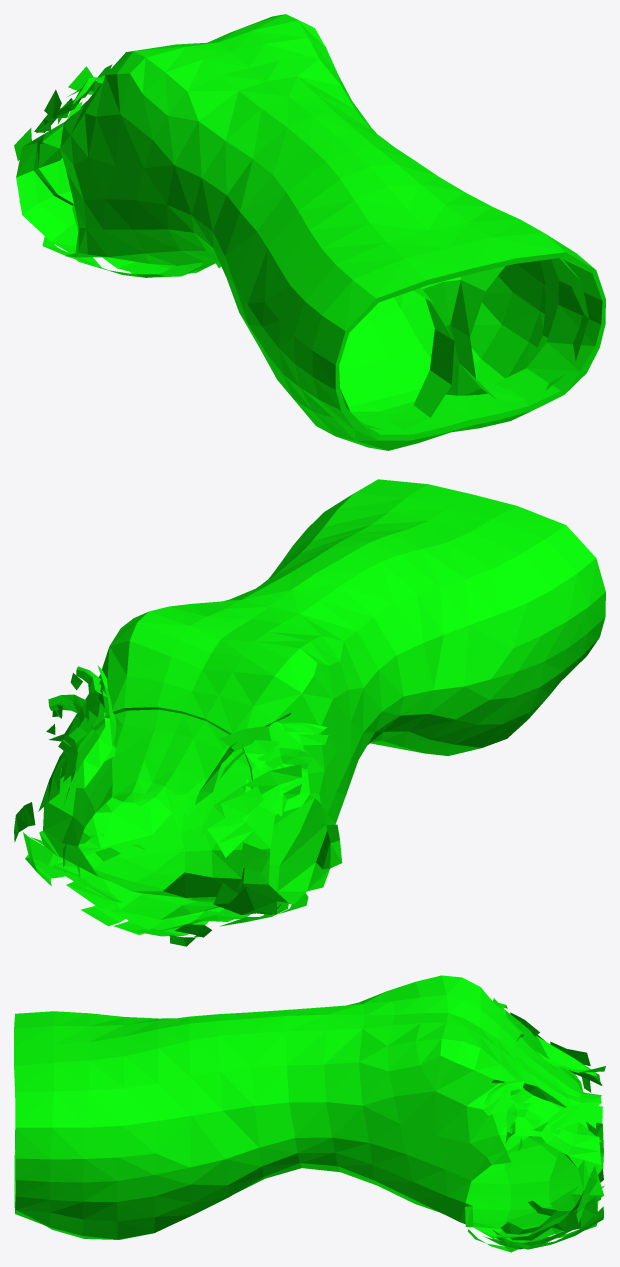
Rendered from female top3.glb.
3 renders of one model, top to bottom at view 1: azimuth 30°, elevation 25°; view 2: azimuth 150°, elevation 25°; view 3: azimuth 270°, elevation 25°, orthographic. The views are drawn at different scales.
Visible parts, largest first — view 1: imagetostl_mesh1; view 2: imagetostl_mesh1; view 3: imagetostl_mesh1.
Boxes of the visible parts, <box> form: imagetostl_mesh1: <box>14,14,605,450</box>; imagetostl_mesh1: <box>14,479,605,946</box>; imagetostl_mesh1: <box>14,975,605,1252</box>.
Size of the model in its own units: 1.06 by 0.9761 by 2.29.
